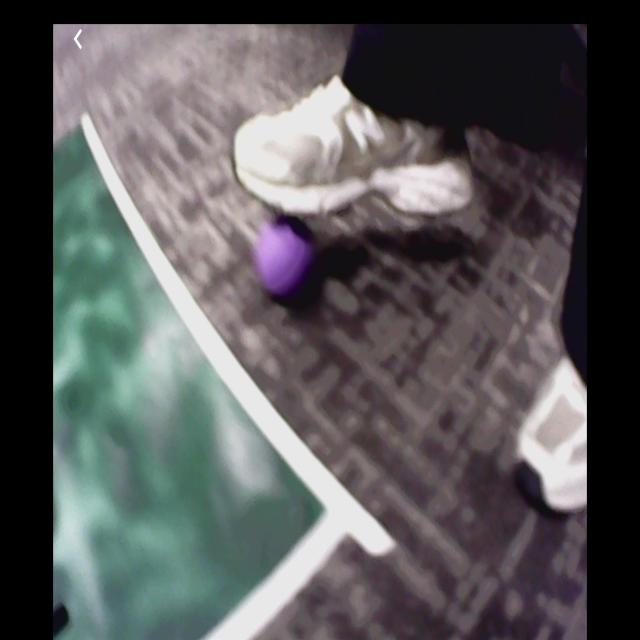ball: (258, 217, 317, 298)
